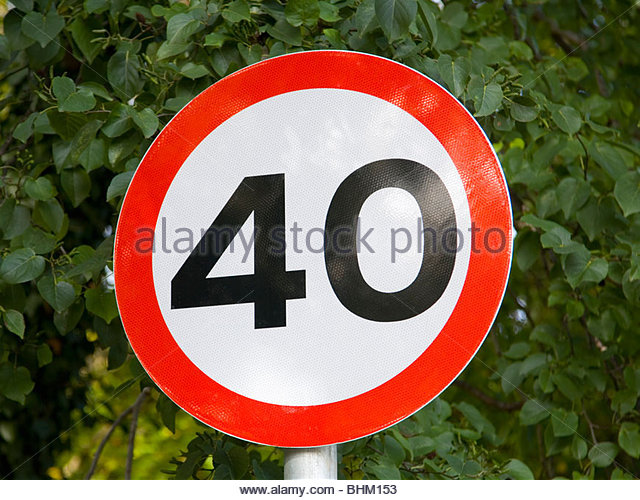Speed_limit_40km: (113, 49, 512, 451)
